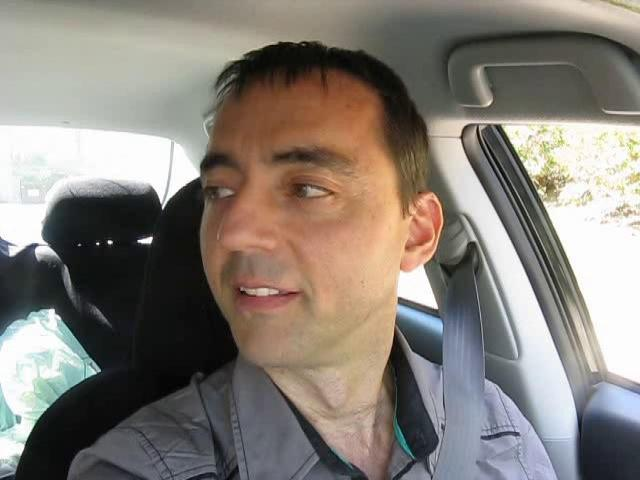eye_open: (280, 173, 341, 210), (202, 178, 239, 206)
face: (192, 123, 391, 358)
